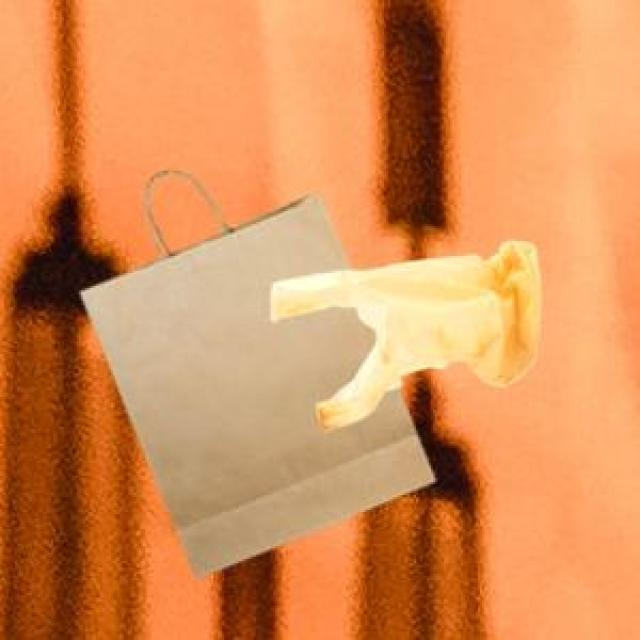paper: (77, 190, 431, 574)
